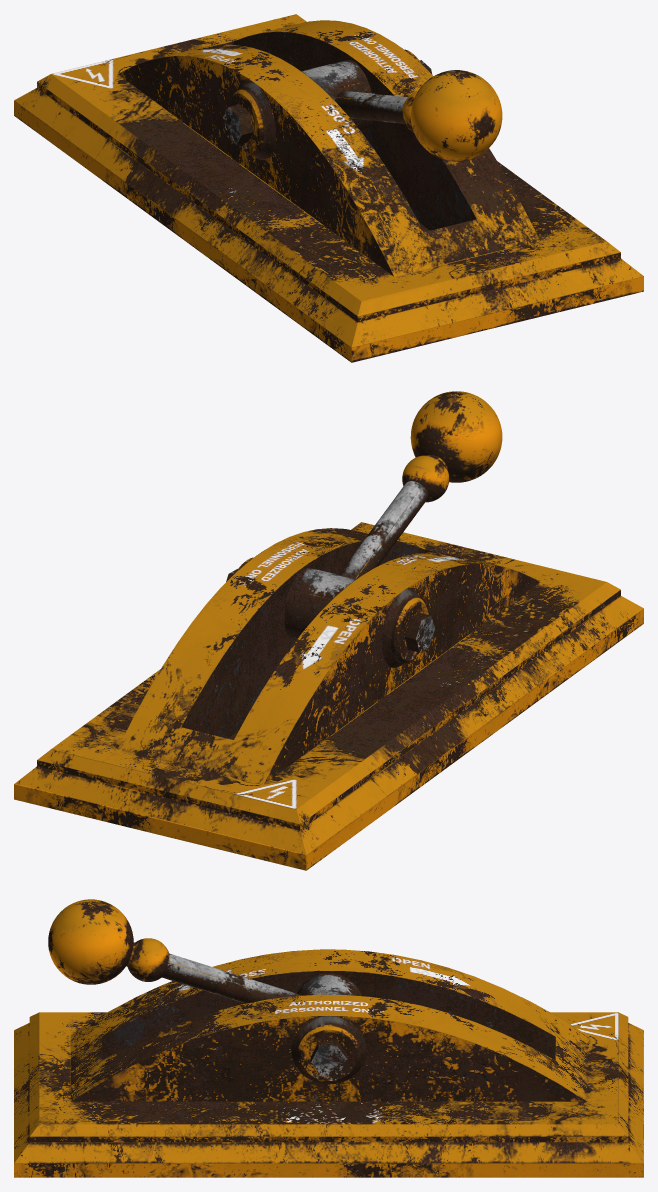
File: Moving Lever.fbx
3 renders of one model, top to bottom at view 1: azimuth 30°, elevation 25°; view 2: azimuth 150°, elevation 25°; view 3: azimuth 270°, elevation 25°, orthographic. The views are drawn at different scales.
Visible parts, largest first — view 1: Lever - l1-1_lver_0.025, Lever - l1-1_lver_0.026; view 2: Lever - l1-1_lver_0.025, Lever - l1-1_lver_0.026; view 3: Lever - l1-1_lver_0.025, Lever - l1-1_lver_0.026.
Part boxes in pixels (<box>): Lever - l1-1_lver_0.025: <box>14,14,643,362</box>; Lever - l1-1_lver_0.026: <box>223,49,502,161</box>; Lever - l1-1_lver_0.025: <box>14,522,643,870</box>; Lever - l1-1_lver_0.026: <box>226,391,502,667</box>; Lever - l1-1_lver_0.025: <box>14,949,643,1177</box>; Lever - l1-1_lver_0.026: <box>48,899,366,1084</box>.
Bounding box in the file's own units: 25400 × 18489 × 50800.
